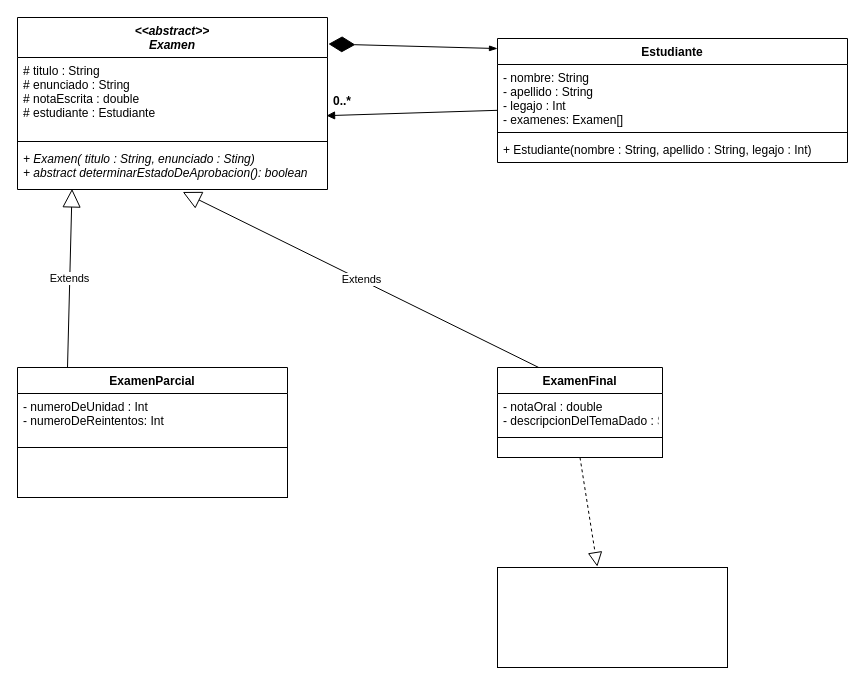
Image size: 865x685. Some labels were removed from this diagram. Here are the shapes that lost their labels. From the top down, the centre of each, then its label:
At (152,472): "+ determinarPosibilidadRecuperatorio() : boolean".
At (612,617): "<<Interface>> Comparable<ExamenFinal> + compareTo(examen : ExamenFinal ): Int".
